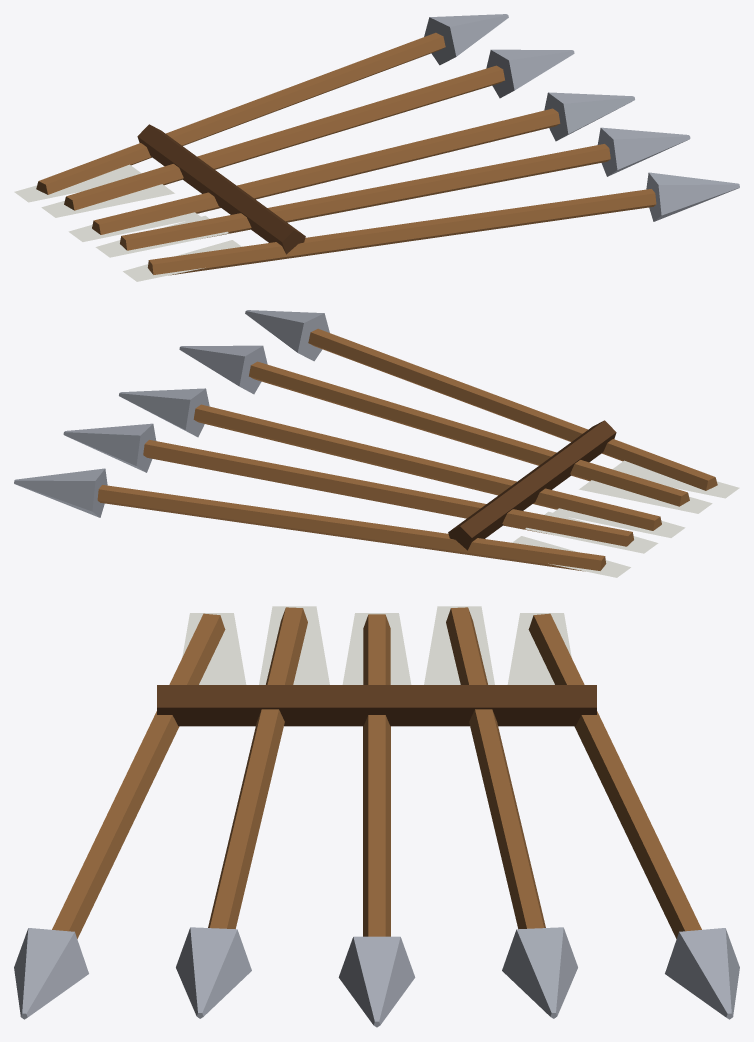
The model's file is drop_iron_arrows.glb.
3 views of the same model, one above another, from view 1: azimuth 30°, elevation 25°; view 2: azimuth 150°, elevation 25°; view 3: azimuth 270°, elevation 25° (orthographic). The views are drawn at different scales.
Parts seen in each view (by area): view 1: drop_iron_arrows; view 2: drop_iron_arrows; view 3: drop_iron_arrows.
Boxes of the visible parts, box(x1,y1,x2,y2) form: drop_iron_arrows: box(14, 14, 739, 281); drop_iron_arrows: box(14, 310, 739, 577); drop_iron_arrows: box(14, 606, 739, 1027).
Size of the model in its own units: 0.535 by 0.0438 by 0.3958.
